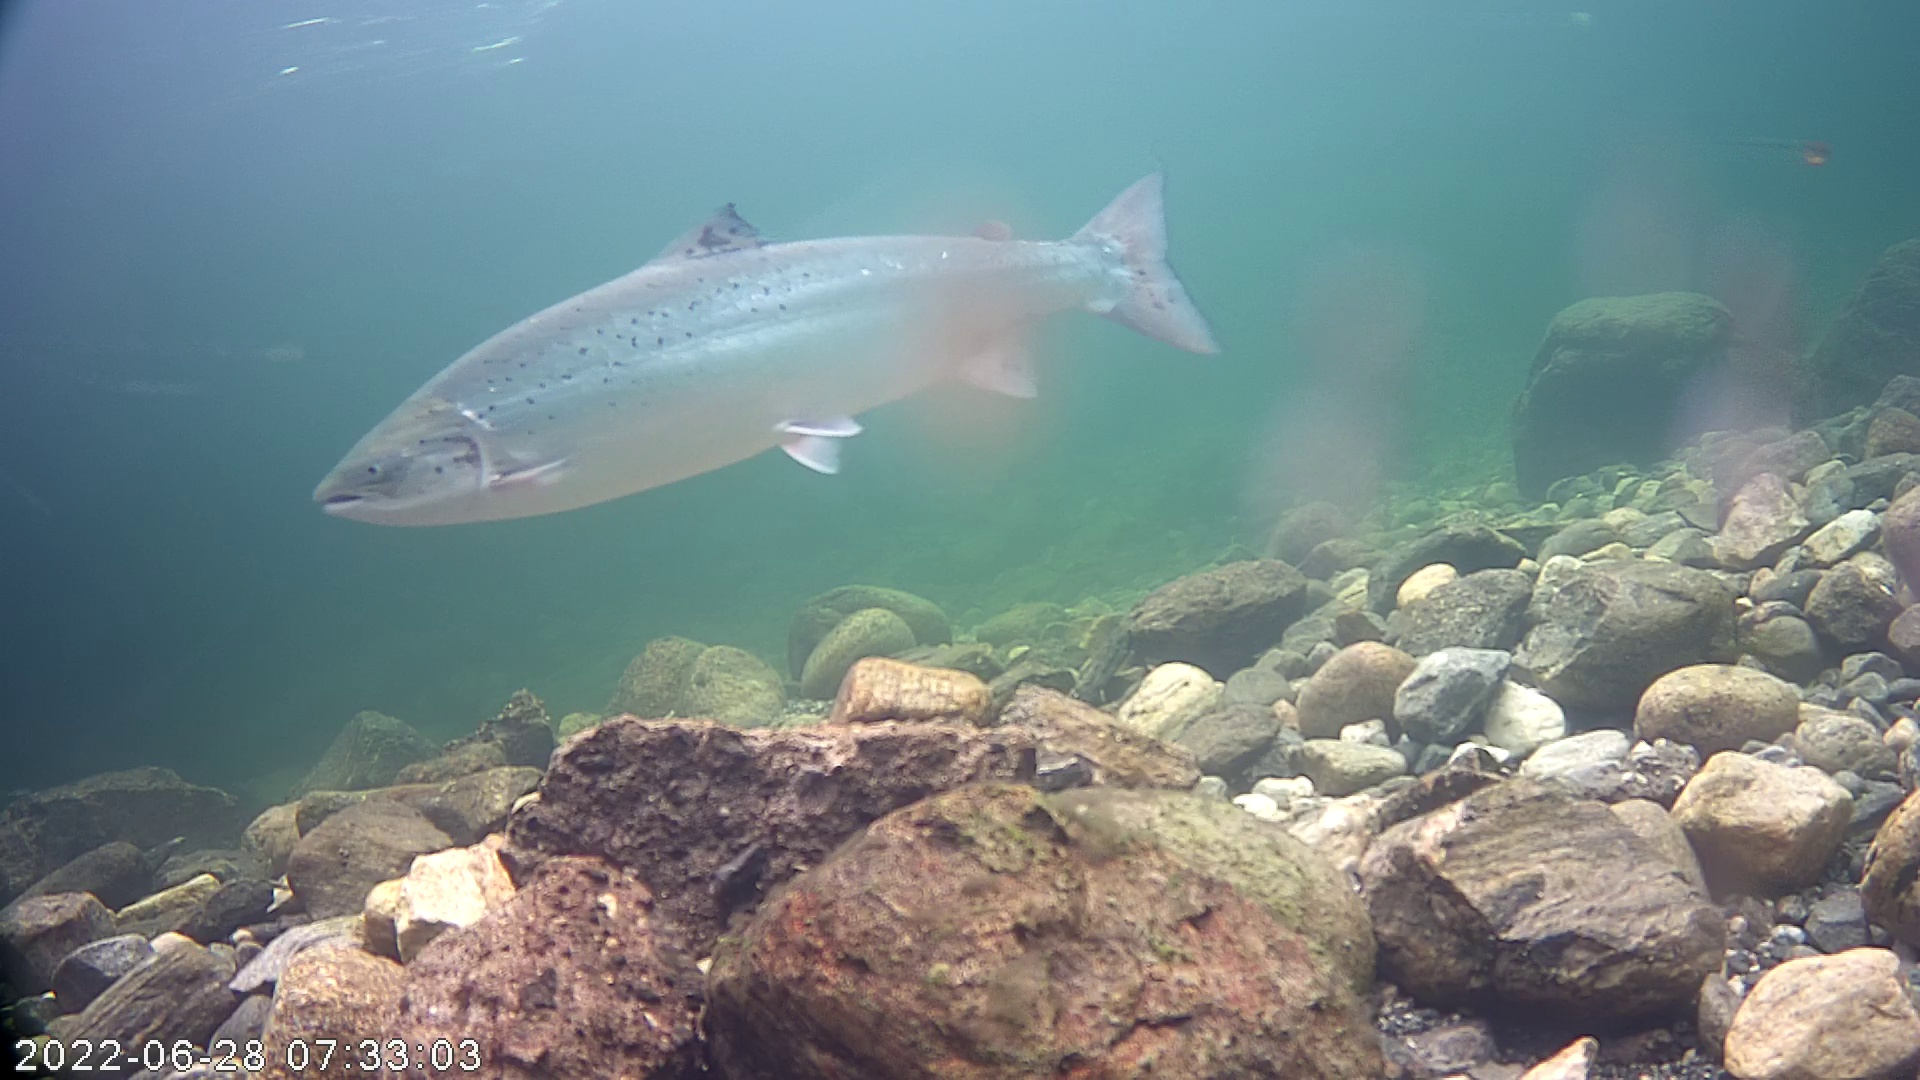salmon: (309, 116, 1244, 553)
